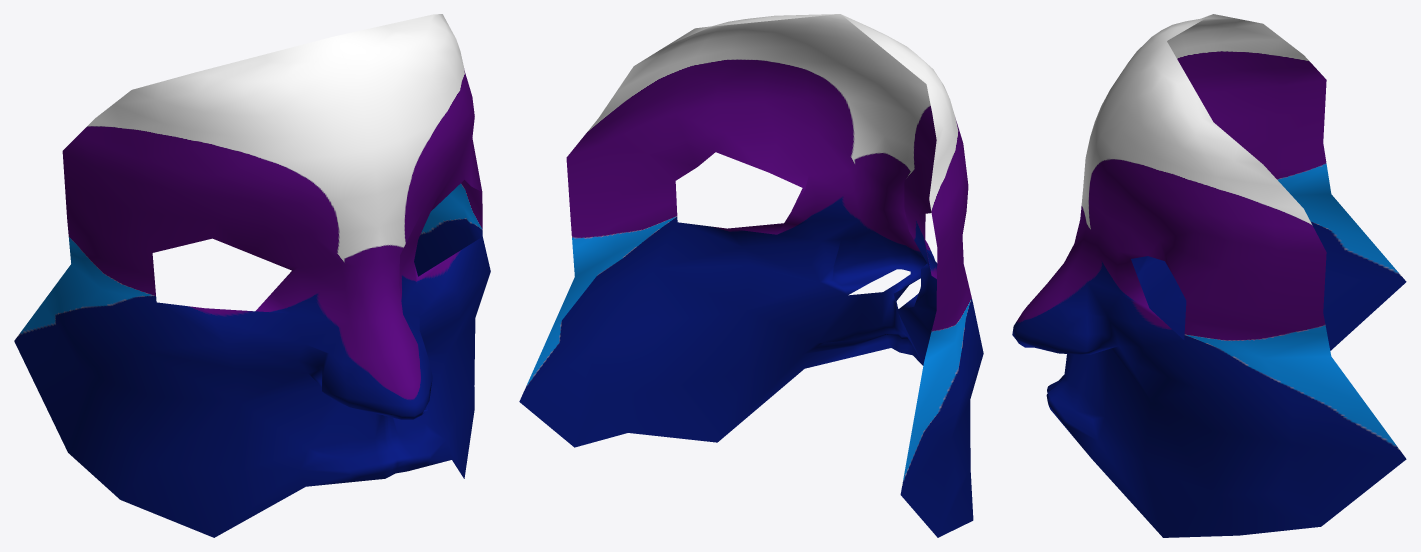
Rendered from StrengthAnimation1.fbx.
3 views of the same model, side by side, from view 1: azimuth 30°, elevation 25°; view 2: azimuth 150°, elevation 25°; view 3: azimuth 270°, elevation 25° (orthographic). The views are drawn at different scales.
Parts seen in each view (by area): view 1: pSphere1; view 2: pSphere1; view 3: pSphere1.
Part boxes in pixels (x1=…): pSphere1: x1=14, y1=14, x2=490, y2=537; pSphere1: x1=519, y1=14, x2=983, y2=537; pSphere1: x1=1012, y1=14, x2=1406, y2=537.
Bounding box in the file's own units: 4.86 × 5.5 × 4.48.
